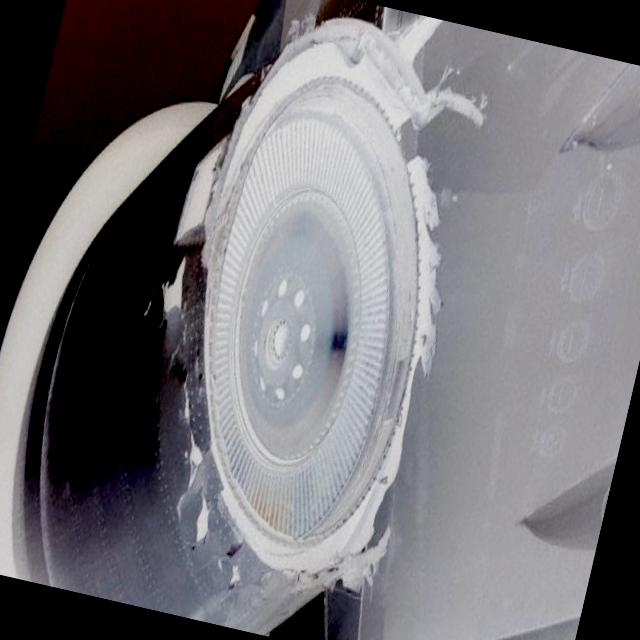crack: (92, 255, 309, 602)
